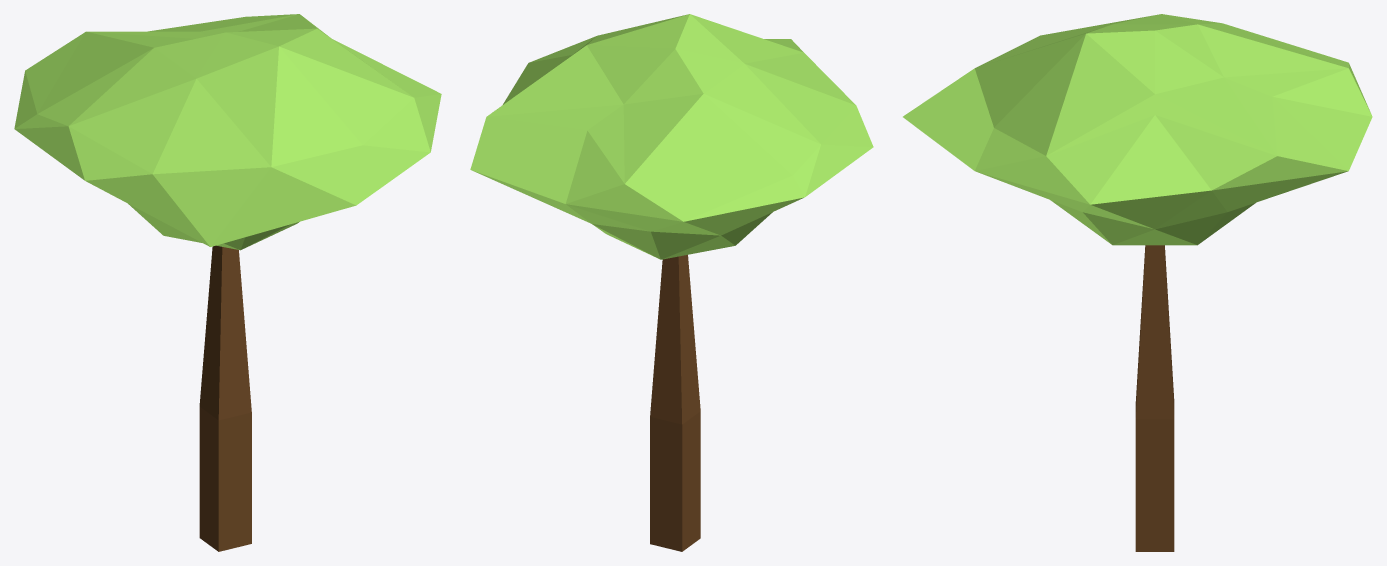
Rendered from Tree_1.fbx.
3 renders of one model, left to right at view 1: azimuth 30°, elevation 25°; view 2: azimuth 150°, elevation 25°; view 3: azimuth 270°, elevation 25°, orthographic. The views are drawn at different scales.
Visible parts, largest first — view 1: Leaf, Wood; view 2: Leaf, Wood; view 3: Leaf, Wood.
Boxes of the visible parts, <box> form: Leaf: <box>14,14,441,250</box>; Wood: <box>199,245,251,551</box>; Leaf: <box>470,14,873,259</box>; Wood: <box>650,255,700,551</box>; Leaf: <box>903,14,1372,245</box>; Wood: <box>1135,245,1174,551</box>.
Size of the model in its own units: 2149 by 2965 by 2431.
